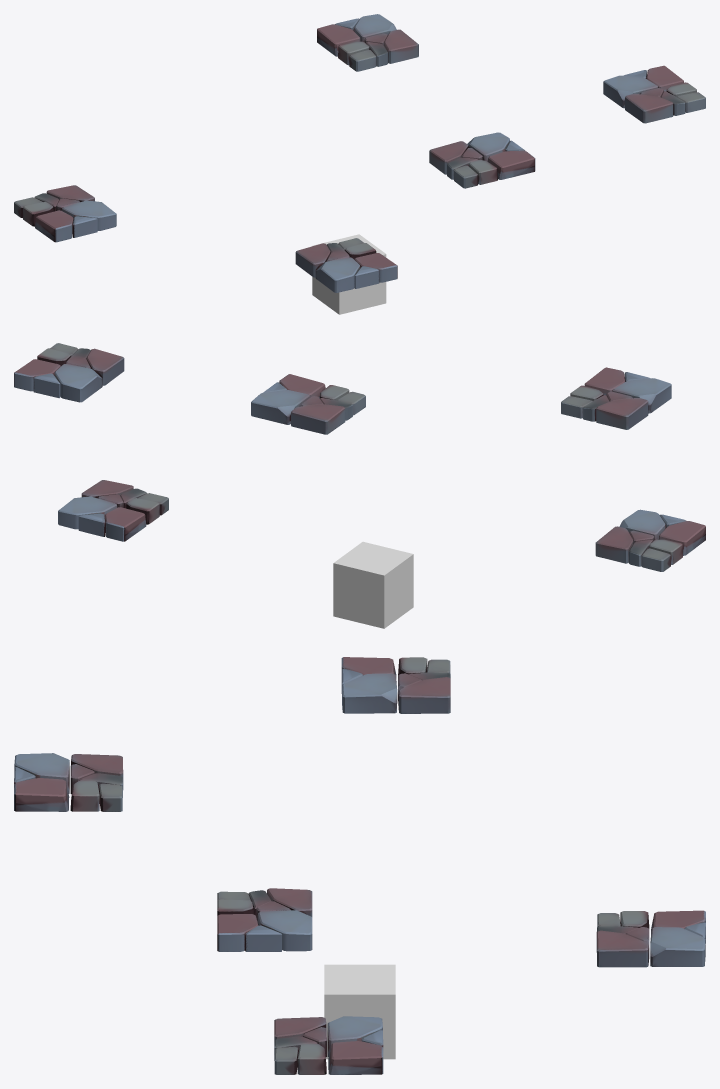
Rendered from battlescence-2-floor009.fbx.
The picture shows the model from 3 angles, top to bottom: view 1: azimuth 30°, elevation 25°; view 2: azimuth 150°, elevation 25°; view 3: azimuth 270°, elevation 25°; orthographic projection. The views are drawn at different scales.
Parts seen in each view (by area): view 1: Plane.002, Plane.036, Plane.008, Plane.038, Plane.013, battlescence-2-floor009; view 2: battlescence-2-floor009, Plane.038, Plane.013, Plane.002, Plane.036, Plane.008; view 3: Plane.008, Plane.013, Plane.038, Plane.036, Plane.002, battlescence-2-floor009.
Part boxes in pixels (x1,y1,x2,y2): Plane.002: (429,132,535,188); Plane.036: (317,14,418,71); Plane.008: (603,65,705,123); Plane.038: (14,185,116,242); Plane.013: (295,238,397,292); battlescence-2-floor009: (312,234,386,314); battlescence-2-floor009: (333,541,413,628); Plane.038: (595,509,705,571); Plane.013: (561,367,671,429); Plane.002: (251,374,365,434); Plane.036: (58,480,168,541); Plane.008: (14,343,124,402); Plane.008: (274,1016,383,1074); Plane.013: (14,753,123,811); Plane.038: (341,657,450,713); Plane.036: (596,910,705,967); Plane.002: (217,888,312,951); battlescence-2-floor009: (324,964,395,1059).
Bounding box in the file's own units: 2662 × 615 × 1939.
